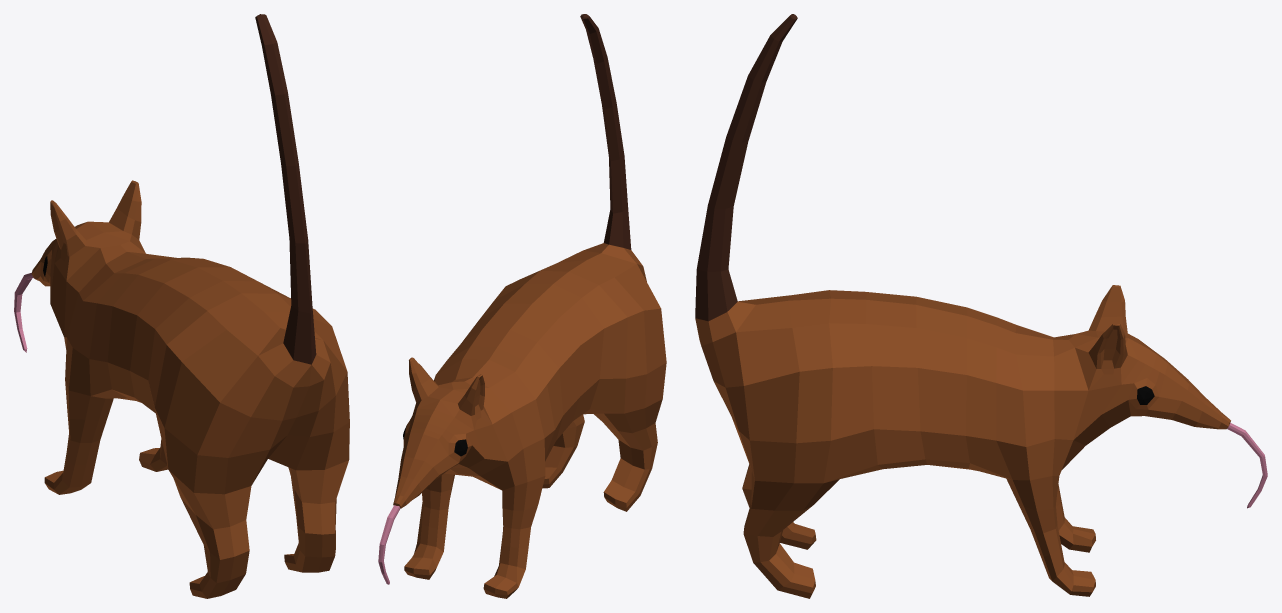
The model's file is NUMBAT.obj.
3 views of the same model, side by side, from view 1: azimuth 30°, elevation 25°; view 2: azimuth 150°, elevation 25°; view 3: azimuth 270°, elevation 25° (orthographic). The views are drawn at different scales.
Visible parts, largest first — view 1: Plane, Plane.001; view 2: Plane, Plane.001; view 3: Plane.
Part boxes in pixels (bbox=[...]): Plane: bbox=[31, 14, 349, 598]; Plane.001: bbox=[14, 273, 33, 352]; Plane: bbox=[393, 14, 666, 598]; Plane.001: bbox=[378, 505, 400, 584]; Plane: bbox=[695, 14, 1230, 598].
Bounding box in the file's own units: 3.9 × 11.9 × 11.12.
